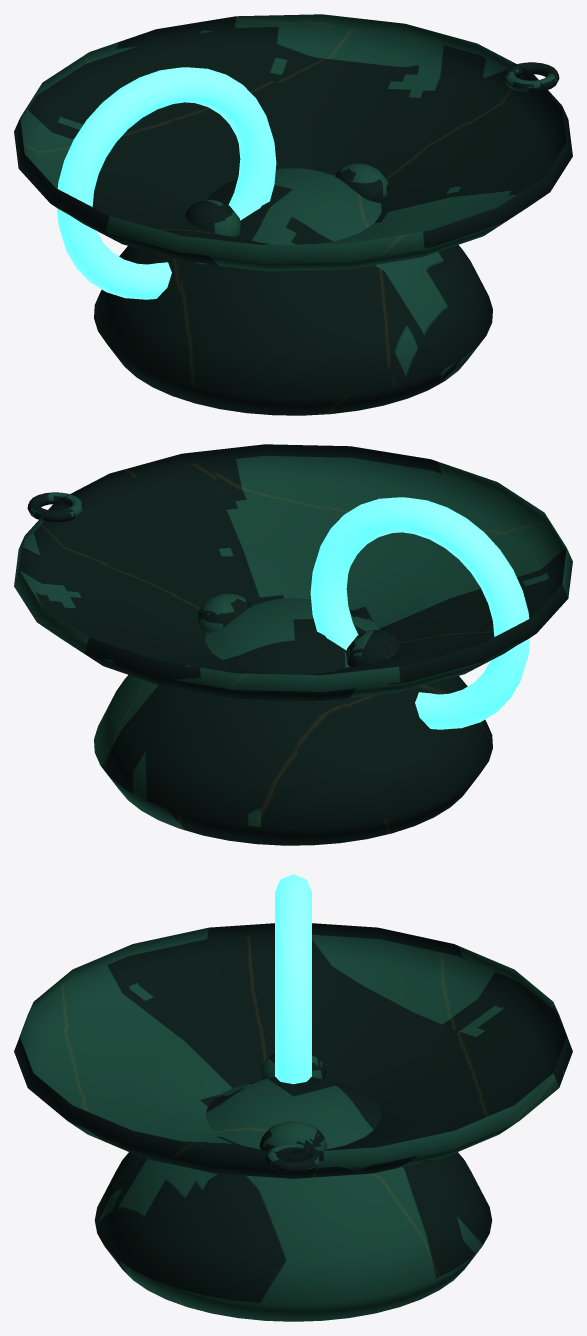
File: ceremonial_lamp_pattern_jade.fbx
3 renders of one model, top to bottom at view 1: azimuth 30°, elevation 25°; view 2: azimuth 150°, elevation 25°; view 3: azimuth 270°, elevation 25°, orthographic.
Parts seen in each view (by area): view 1: TH10_Lamp_Spout, TH10_Lamp_Reservoir, TH10_Lamp_Handle, TH10_Lamp_HandleMount, TH10_Lamp_HandleMount.001, TH10_Lamp_SpoutRim; view 2: TH10_Lamp_Spout, TH10_Lamp_Reservoir, TH10_Lamp_Handle, TH10_Lamp_HandleMount, TH10_Lamp_HandleMount.001, TH10_Lamp_SpoutRim; view 3: TH10_Lamp_Spout, TH10_Lamp_Reservoir, TH10_Lamp_Handle, TH10_Lamp_HandleMount.001, TH10_Lamp_SpoutRim, TH10_Lamp_HandleMount.
Boxes of the visible parts, x1,y1,x2,y2 form: TH10_Lamp_Spout: (14, 14, 572, 271); TH10_Lamp_Reservoir: (94, 168, 492, 415); TH10_Lamp_Handle: (56, 67, 276, 299); TH10_Lamp_HandleMount: (185, 199, 240, 236); TH10_Lamp_HandleMount.001: (335, 163, 389, 202); TH10_Lamp_SpoutRim: (503, 62, 559, 92); TH10_Lamp_Spout: (14, 444, 572, 701); TH10_Lamp_Reservoir: (94, 598, 492, 845); TH10_Lamp_Handle: (310, 497, 530, 729); TH10_Lamp_HandleMount: (346, 629, 401, 666); TH10_Lamp_HandleMount.001: (197, 593, 251, 632); TH10_Lamp_SpoutRim: (27, 492, 83, 522); TH10_Lamp_Spout: (14, 923, 572, 1178); TH10_Lamp_Reservoir: (94, 1077, 492, 1321); TH10_Lamp_Handle: (275, 874, 311, 1084); TH10_Lamp_HandleMount.001: (259, 1121, 327, 1151); TH10_Lamp_SpoutRim: (265, 1143, 321, 1173); TH10_Lamp_HandleMount: (260, 1053, 326, 1079).
Bounding box in the file's own units: 0.187 × 0.106 × 0.18.
Materials: 2 (1 with a texture image).
